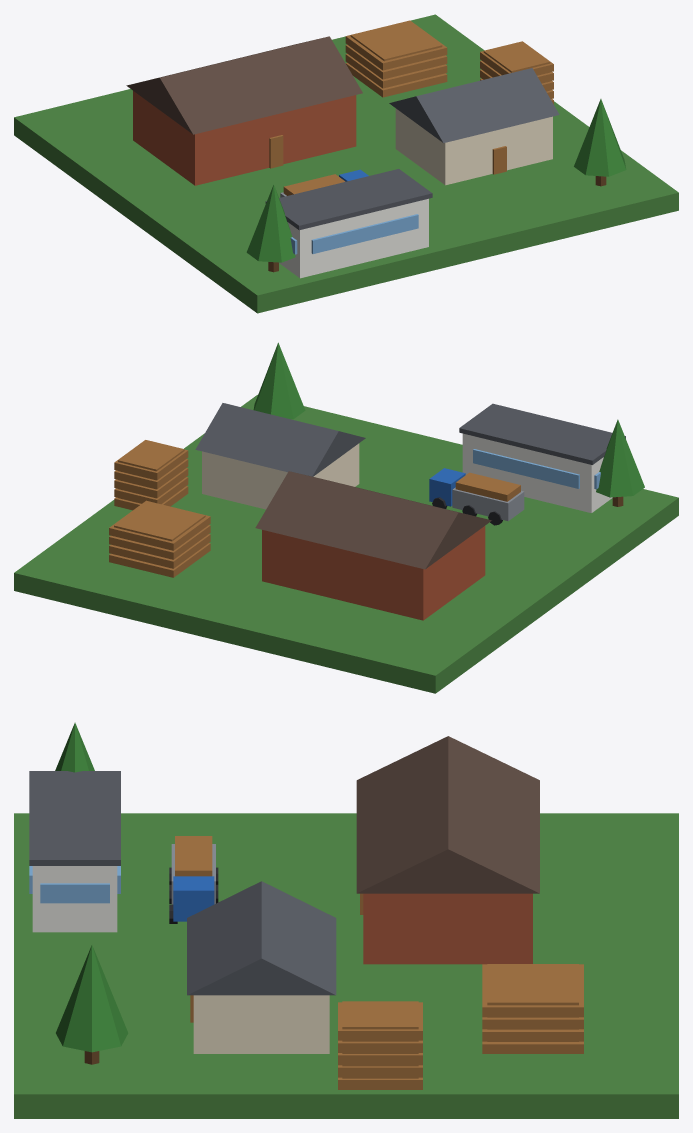
The model's file is forest_income_3.glb.
3 views of the same model, one above another, from view 1: azimuth 30°, elevation 25°; view 2: azimuth 150°, elevation 25°; view 3: azimuth 270°, elevation 25° (orthographic). The views are drawn at different scales.
Parts seen in each view (by area): view 1: forest_income_3; view 2: forest_income_3; view 3: forest_income_3.
Part boxes in pixels (<box>): forest_income_3: <box>14,14,678,313</box>; forest_income_3: <box>14,342,678,693</box>; forest_income_3: <box>14,722,678,1118</box>.
Bounding box in the file's own units: 1.96 × 0.464 × 1.96.
